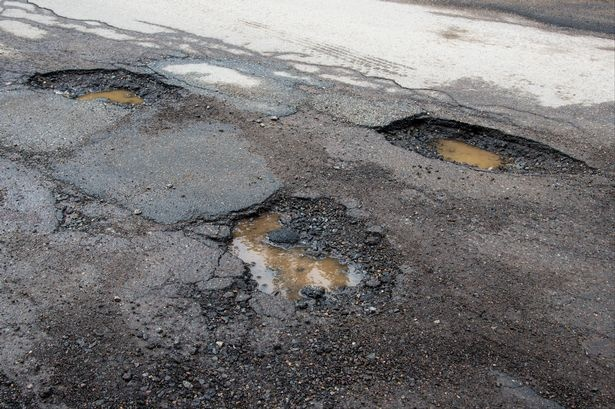pothole: (357, 77, 592, 196), (203, 179, 409, 306), (28, 51, 280, 140)
